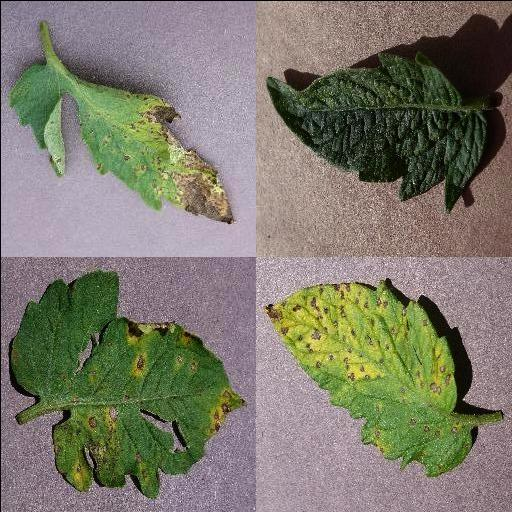Septoria: (7, 272, 247, 501), (263, 279, 471, 475), (10, 60, 231, 224)
Spider Mites: (265, 51, 487, 213)
